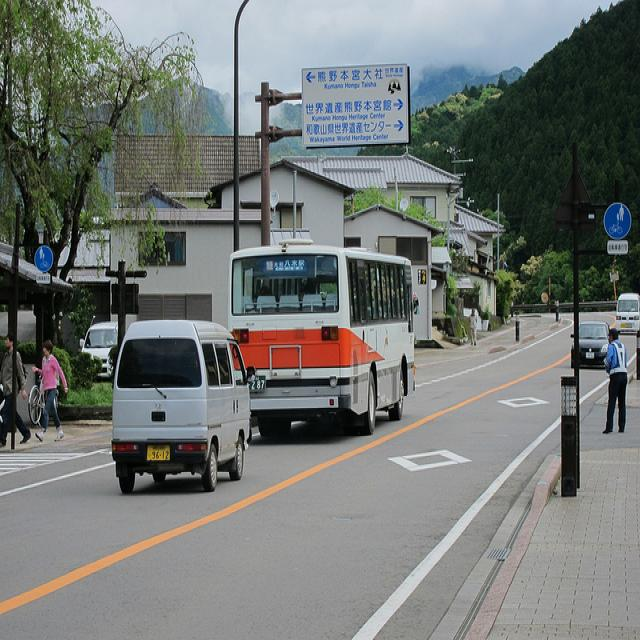Vehicle: (225, 242, 418, 436), (114, 316, 256, 494), (80, 320, 118, 377), (571, 324, 609, 367), (617, 293, 639, 333)
